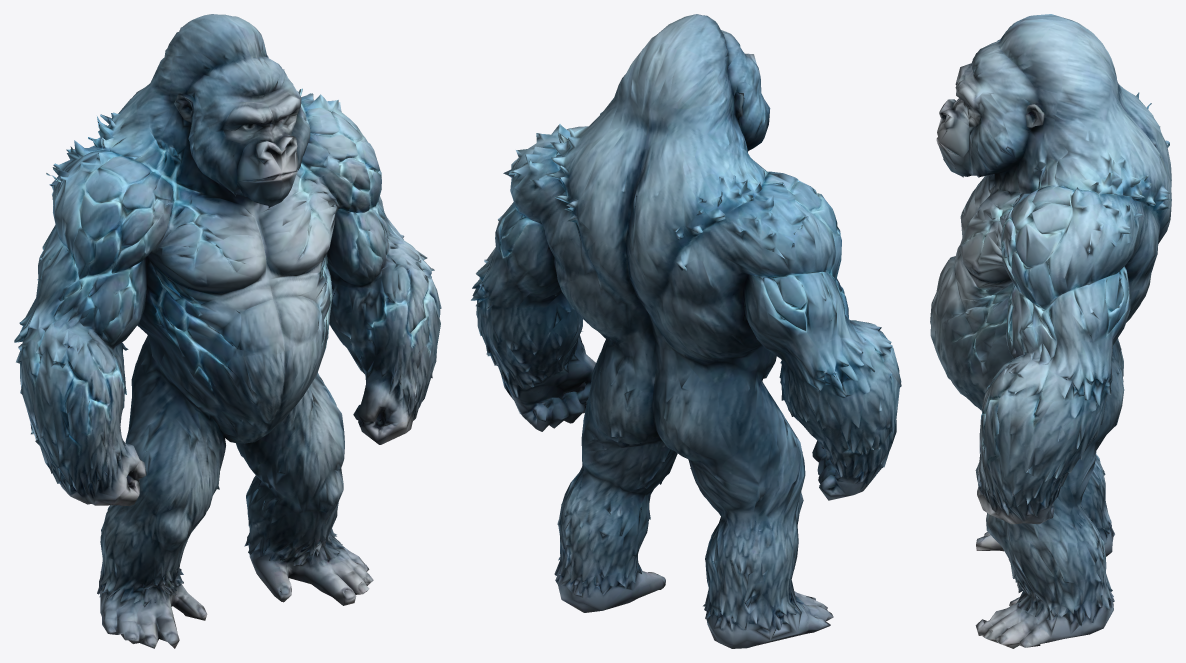
The model's file is goro_4.glb.
The picture shows the model from 3 angles, left to right: view 1: azimuth 30°, elevation 25°; view 2: azimuth 150°, elevation 25°; view 3: azimuth 270°, elevation 25°; orthographic projection. The views are drawn at different scales.
Bounding box in the file's own units: 0.7137 × 0.9945 × 0.3803.
Materials: 1 (1 with a texture image).
